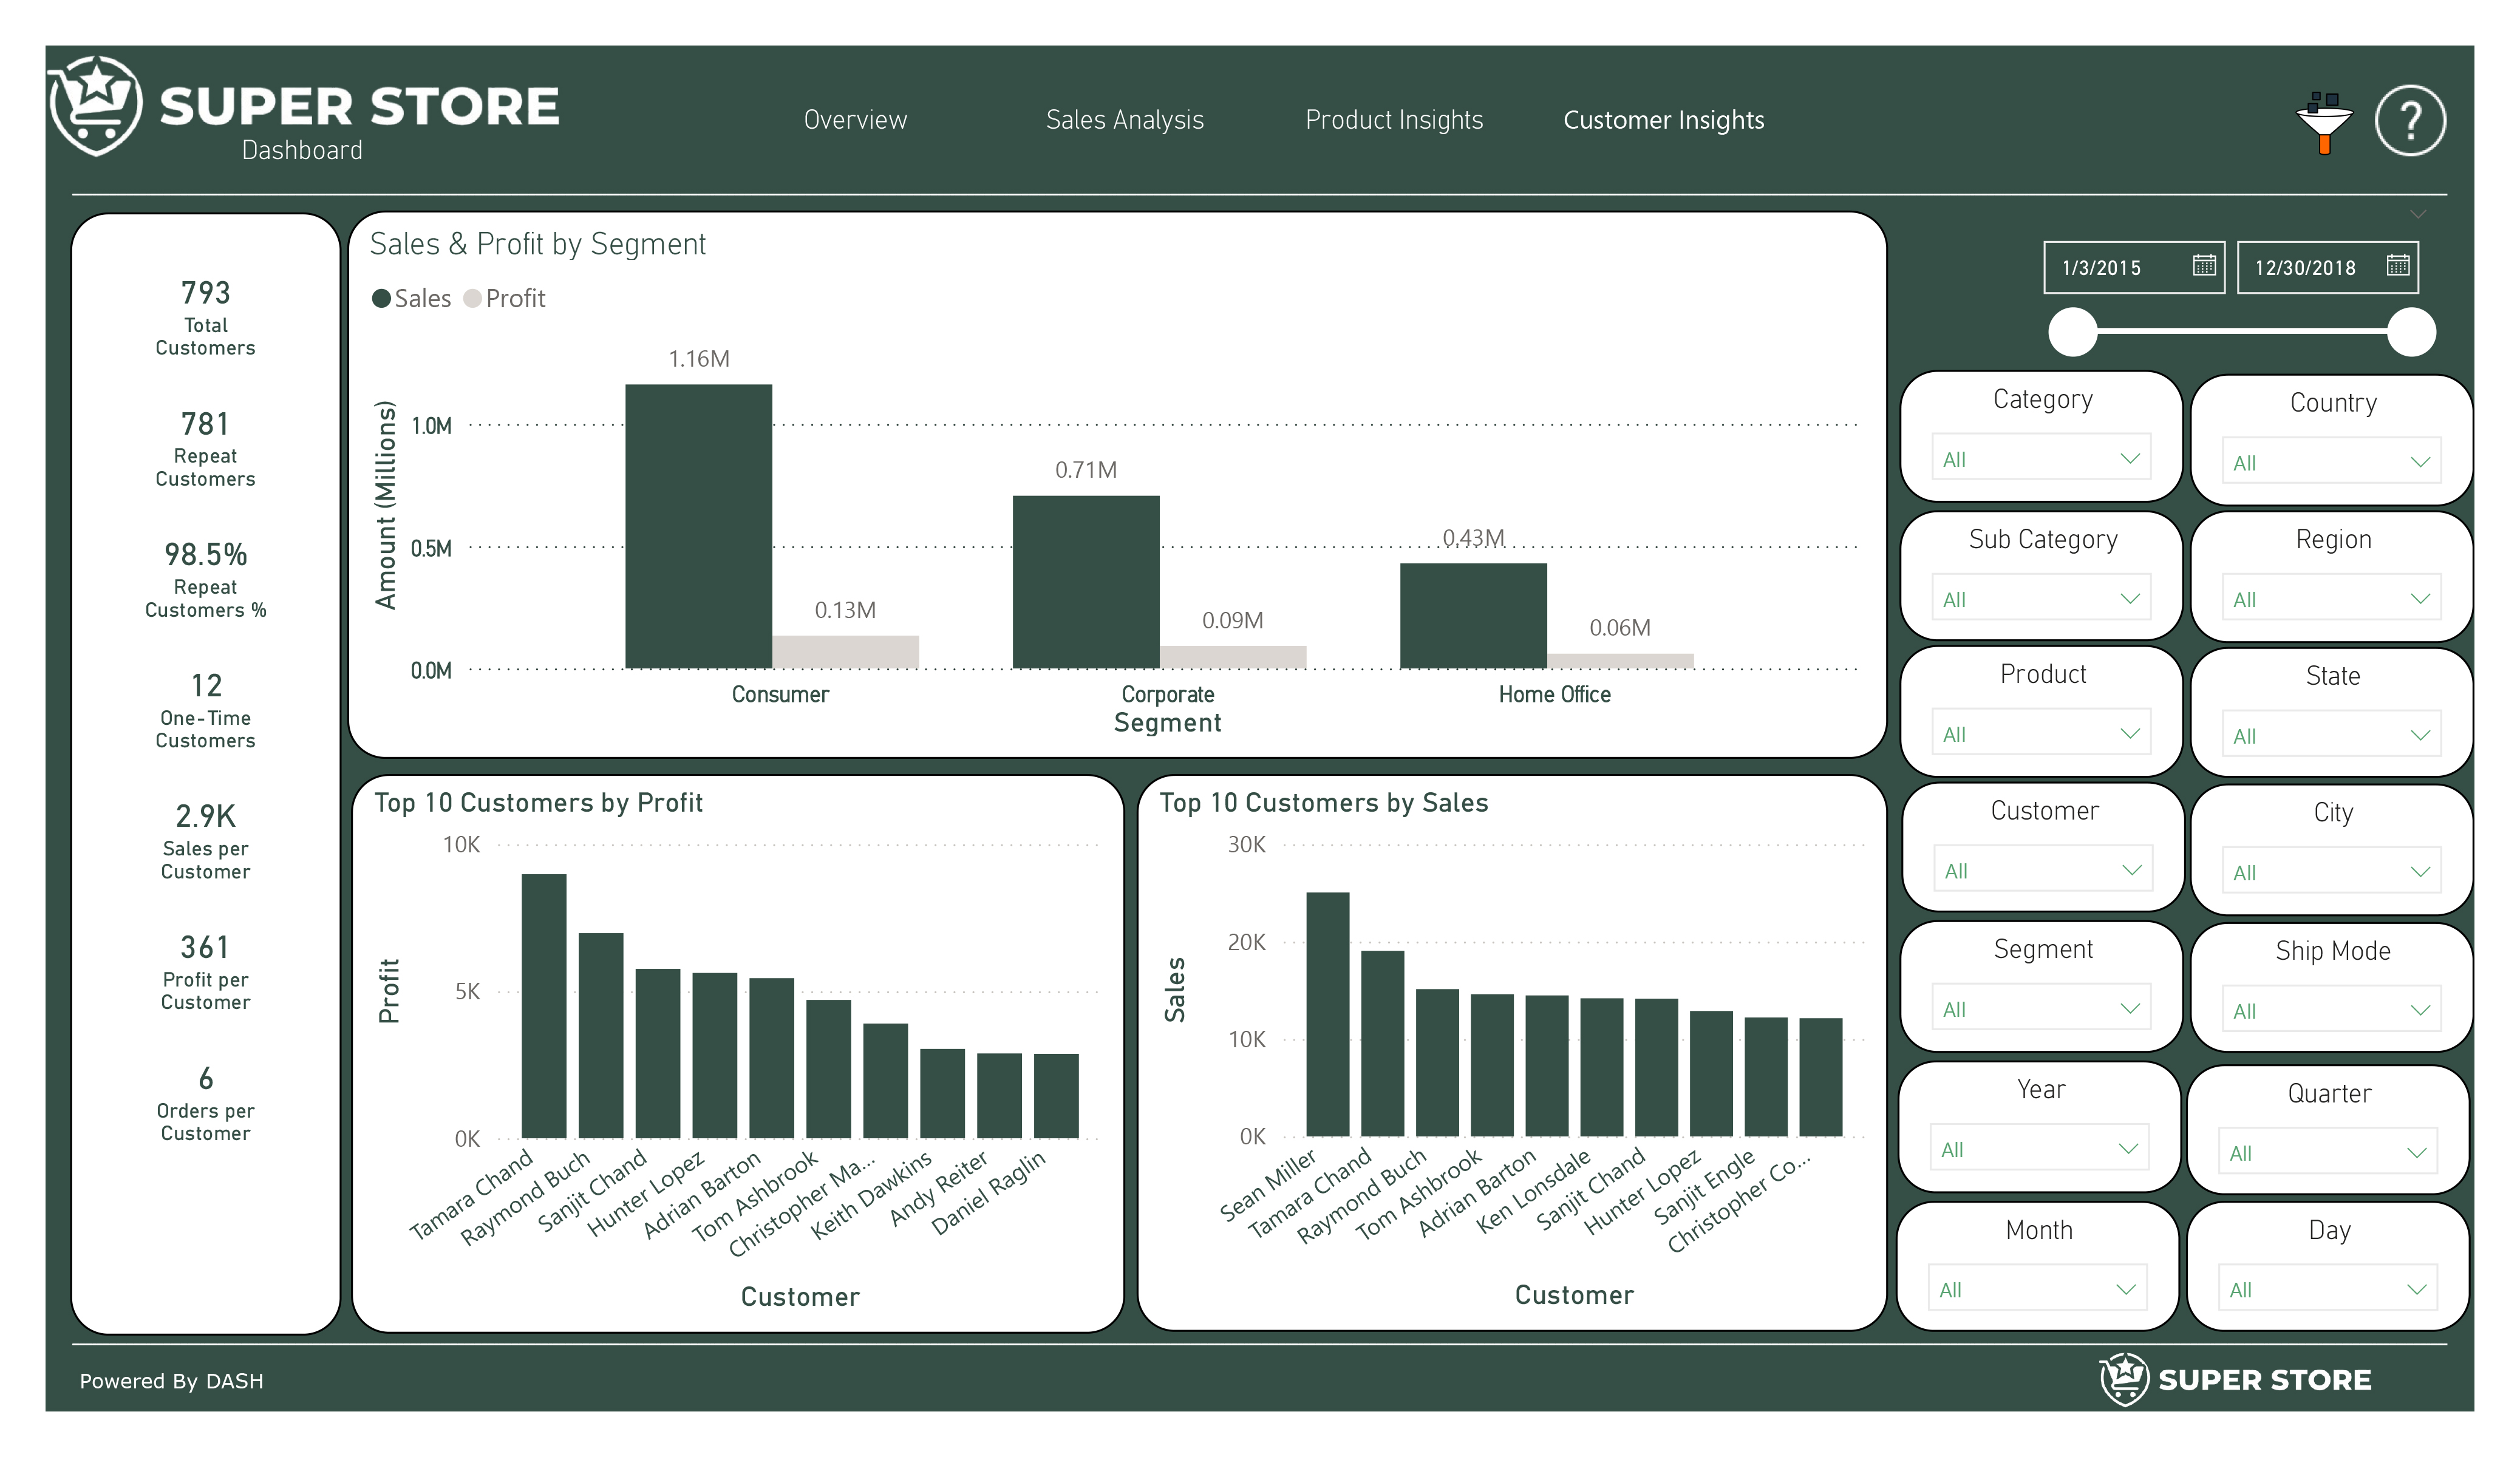

Layout of this report page (visuals, bound fields, positions):
{"tool":"powerbi","page":{"name":"Customer Insights","canvas":[1280,720],"ordinal":3},"visuals":[{"type":"pageNavigator","box":[361.1,0,559.2,78.5],"z":0},{"type":"textbox","box":[2.1,41.4,266.8,27.9],"z":1000},{"type":"image","box":[1226,9.1,41.2,61.4],"z":2000},{"type":"image","box":[0,0,270.9,64.1],"z":3000},{"type":"textbox","box":[0,670,1280,27.8],"z":4000},{"type":"image","box":[1040,688.8,227.5,28.8],"z":5000},{"type":"slicer","fields":{"Values":["Order.order_date"]},"box":[1040.1,78.6,227.5,97.2],"z":6000},{"type":"textbox","box":[0,64.4,1280,27.8],"z":7000},{"type":"textbox","box":[13.1,688.8,133.8,31.2],"z":8000},{"type":"image","box":[1183.8,22.1,34.2,37.2],"z":9000},{"type":"cardVisual","fields":{"Data":["Calculations Measure.Total Customers","Calculations Measure.Repeat Customers Count","Calculations Measure.Repeat Customer Rate %","Calculations Measure.One-Time Customers Count","Calculations Measure.Avg Lifetime Sales per Customer","Calculations Measure.Avg Lifetime Profit per Customer","Calculations Measure.Avg Orders per Customer"]},"box":[13.1,87.5,142.8,592.4],"z":10000},{"type":"clusteredColumnChart","title":"Top 10 Customers by Sales","fields":{"Category":["Customer.customer_name"],"Y":["Sum(Order Details.sales)"]},"box":[575.4,384,396,294.3],"z":11000},{"type":"clusteredColumnChart","title":"Top 10 Customers by Profit","fields":{"Category":["Customer.customer_name"],"Y":["Sum(Order Details.profit)"]},"box":[161.5,384,407.9,295.5],"z":12000},{"type":"slicer","title":"Country","fields":{"Values":["Country.country"]},"box":[1129.8,172.5,150,70],"z":13000},{"type":"slicer","title":"State","fields":{"Values":["State.state"]},"box":[1130.1,316.7,149.9,69.4],"z":14000},{"type":"slicer","title":"Region","fields":{"Values":["Region.region"]},"box":[1130.1,245.3,149.9,69.4],"z":15000},{"type":"slicer","title":"Sub Category","fields":{"Values":["Sub Category.sub_category"]},"box":[977.5,244.9,149.9,69.4],"z":16000},{"type":"slicer","title":"Product","fields":{"Values":["Product.product_name"]},"box":[977.5,316.3,149.9,69.4],"z":17000},{"type":"slicer","title":"Category","fields":{"Values":["Category.category"]},"box":[977.5,171.5,149.9,69.4],"z":18000},{"type":"slicer","title":"City","fields":{"Values":["City.city"]},"box":[1130.1,389.1,149.9,69.4],"z":19000},{"type":"slicer","title":"Ship Mode","fields":{"Values":["Ship Mode.ship_mode"]},"box":[1130.1,461.5,149.9,69.4],"z":20000},{"type":"slicer","title":"Customer","fields":{"Values":["Customer.customer_name"]},"box":[978.5,387.7,149.9,69.4],"z":21000},{"type":"slicer","title":"Segment","fields":{"Values":["Segment.segment"]},"box":[977.5,461.2,149.9,69.4],"z":22000},{"type":"slicer","title":"Quarter","fields":{"Values":["Calendar.Quarter"]},"box":[1128,536.6,149.9,69.4],"z":23000},{"type":"slicer","title":"Day","fields":{"Values":["Calendar.Day Name"]},"box":[1128,609,149.9,69.4],"z":24000},{"type":"slicer","title":"Year","fields":{"Values":["Calendar.Year"]},"box":[976.4,535.2,149.9,69.4],"z":25000},{"type":"slicer","title":"Month","fields":{"Values":["Calendar.Month Name"]},"box":[975.4,608.6,149.9,69.4],"z":26000},{"type":"clusteredColumnChart","title":"Sales & Profit by Segment","fields":{"Category":["Segment.segment"],"Y":["Calculations Measure.Total Sales","Calculations Measure.Total Profit"]},"box":[159.1,87.3,812.3,288.3],"z":27000}]}

Visuals, with their boxes on the page's 1280x720 design canvas (x1, y1, x2, y2). These are canvas units, not pixel positions in the 2520x1457 screenshot, which may show the page scaled, cropped or inside an application window:
pageNavigator: pyautogui.locateOnScreen(361, 0, 920, 78)
textbox: pyautogui.locateOnScreen(2, 41, 269, 69)
image: pyautogui.locateOnScreen(1226, 9, 1267, 70)
image: pyautogui.locateOnScreen(0, 0, 271, 64)
textbox: pyautogui.locateOnScreen(0, 670, 1280, 698)
image: pyautogui.locateOnScreen(1040, 689, 1268, 718)
slicer - Order.order_date: pyautogui.locateOnScreen(1040, 79, 1268, 176)
textbox: pyautogui.locateOnScreen(0, 64, 1280, 92)
textbox: pyautogui.locateOnScreen(13, 689, 147, 720)
image: pyautogui.locateOnScreen(1184, 22, 1218, 59)
cardVisual - Calculations Measure.Total Customers x Calculations Measure.Repeat Customers Count: pyautogui.locateOnScreen(13, 88, 156, 680)
"Top 10 Customers by Sales" clusteredColumnChart: pyautogui.locateOnScreen(575, 384, 971, 678)
"Top 10 Customers by Profit" clusteredColumnChart: pyautogui.locateOnScreen(162, 384, 569, 680)
"Country" slicer: pyautogui.locateOnScreen(1130, 172, 1280, 242)
"State" slicer: pyautogui.locateOnScreen(1130, 317, 1280, 386)
"Region" slicer: pyautogui.locateOnScreen(1130, 245, 1280, 315)
"Sub Category" slicer: pyautogui.locateOnScreen(978, 245, 1127, 314)
"Product" slicer: pyautogui.locateOnScreen(978, 316, 1127, 386)
"Category" slicer: pyautogui.locateOnScreen(978, 172, 1127, 241)
"City" slicer: pyautogui.locateOnScreen(1130, 389, 1280, 458)
"Ship Mode" slicer: pyautogui.locateOnScreen(1130, 462, 1280, 531)
"Customer" slicer: pyautogui.locateOnScreen(978, 388, 1128, 457)
"Segment" slicer: pyautogui.locateOnScreen(978, 461, 1127, 531)
"Quarter" slicer: pyautogui.locateOnScreen(1128, 537, 1278, 606)
"Day" slicer: pyautogui.locateOnScreen(1128, 609, 1278, 678)
"Year" slicer: pyautogui.locateOnScreen(976, 535, 1126, 605)
"Month" slicer: pyautogui.locateOnScreen(975, 609, 1125, 678)
"Sales & Profit by Segment" clusteredColumnChart: pyautogui.locateOnScreen(159, 87, 971, 376)
